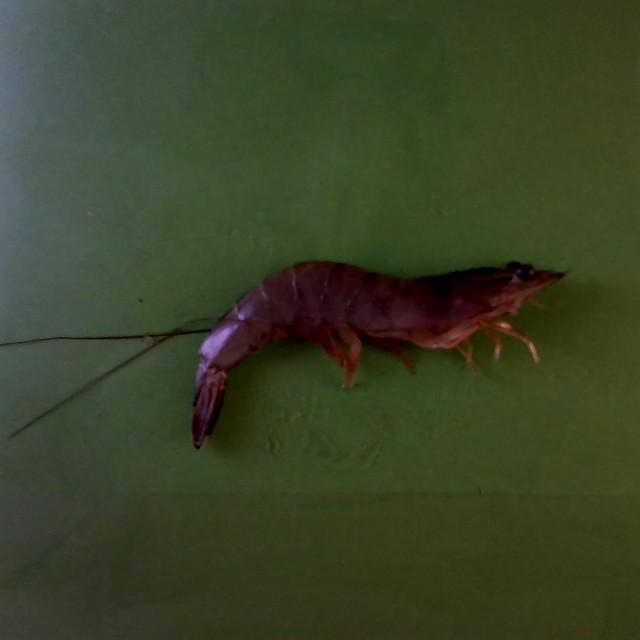shrimp: (192, 262, 566, 448)
